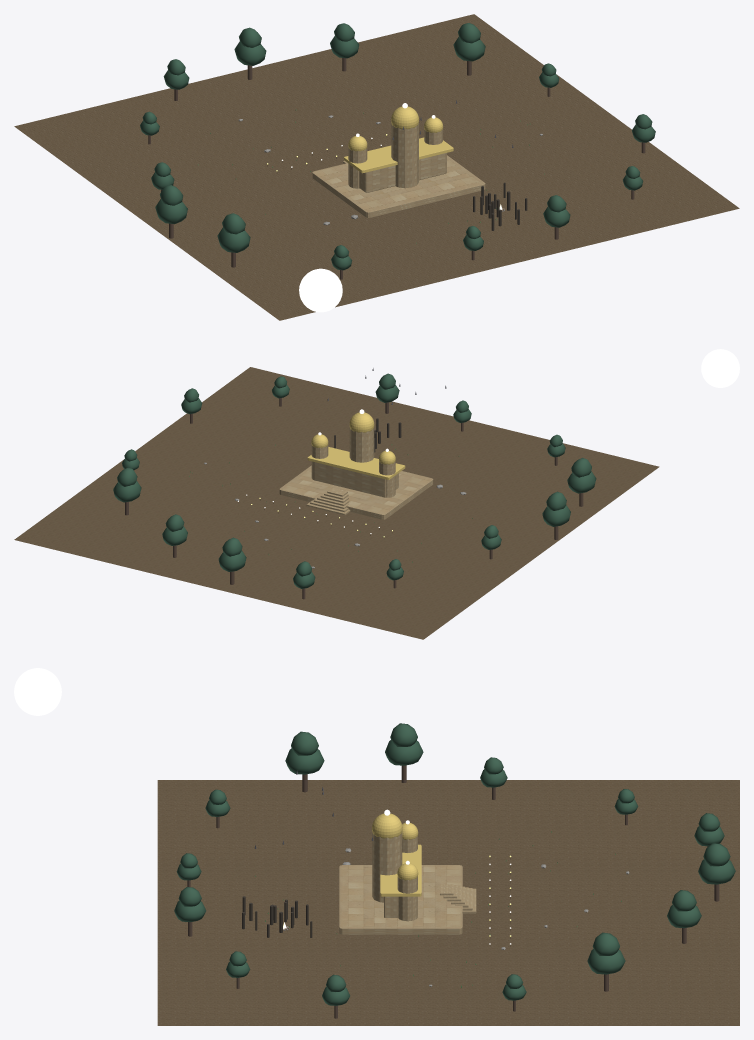
Rendered from adi-12-indraprastha.glb.
3 views of the same model, one above another, from view 1: azimuth 30°, elevation 25°; view 2: azimuth 150°, elevation 25°; view 3: azimuth 270°, elevation 25° (orthographic). The views are drawn at different scales.
Parts seen in each view (by area): view 1: GEO-ground, GEO-platform, GEO-tower, GEO-sun, GEO-greathall, GEO-goldband, GEO-tree-canopy.016, GEO-tree-canopy.014, GEO-tree-canopy.002, GEO-tree-canopy.006, GEO-dome, GEO-tower.001; view 2: GEO-ground, GEO-platform, GEO-greathall, GEO-sun, GEO-goldband, GEO-tower; view 3: GEO-ground, GEO-platform, GEO-sun, GEO-tower, GEO-goldband, GEO-tower.002, GEO-tree-canopy.016, GEO-tree-canopy.014, GEO-tree-canopy.002, GEO-tree-canopy.006, GEO-dome.
Part boxes in pixels (x1=…): GEO-ground: x1=14, y1=14, x2=739, y2=320; GEO-platform: x1=312, y1=155, x2=485, y2=217; GEO-tower: x1=391, y1=123, x2=418, y2=188; GEO-sun: x1=299, y1=268, x2=342, y2=312; GEO-greathall: x1=359, y1=153, x2=446, y2=192; GEO-goldband: x1=344, y1=137, x2=453, y2=173; GEO-tree-canopy.016: x1=217, y1=227, x2=250, y2=252; GEO-tree-canopy.014: x1=155, y1=199, x2=187, y2=224; GEO-tree-canopy.002: x1=453, y1=37, x2=485, y2=61; GEO-tree-canopy.006: x1=234, y1=41, x2=266, y2=65; GEO-dome: x1=391, y1=106, x2=418, y2=129; GEO-tower.001: x1=348, y1=147, x2=367, y2=188; GEO-ground: x1=14, y1=367, x2=659, y2=639; GEO-platform: x1=279, y1=465, x2=433, y2=519; GEO-greathall: x1=313, y1=462, x2=398, y2=497; GEO-sun: x1=701, y1=349, x2=739, y2=387; GEO-goldband: x1=307, y1=447, x2=405, y2=479; GEO-tower: x1=349, y1=427, x2=374, y2=462; GEO-ground: x1=157, y1=780, x2=739, y2=1025; GEO-platform: x1=339, y1=865, x2=462, y2=934; GEO-sun: x1=14, y1=668, x2=61, y2=715; GEO-tower: x1=372, y1=832, x2=402, y2=902; GEO-goldband: x1=380, y1=844, x2=421, y2=896; GEO-tower.002: x1=397, y1=876, x2=417, y2=921; GEO-tree-canopy.016: x1=285, y1=748, x2=324, y2=774; GEO-tree-canopy.014: x1=385, y1=740, x2=423, y2=765; GEO-tree-canopy.002: x1=587, y1=949, x2=625, y2=974; GEO-tree-canopy.006: x1=698, y1=859, x2=735, y2=884; GEO-dome: x1=372, y1=813, x2=402, y2=838.
Size of the model in its own units: 182 by 35.35 by 212.
Materials: 16 (2 with a texture image).
